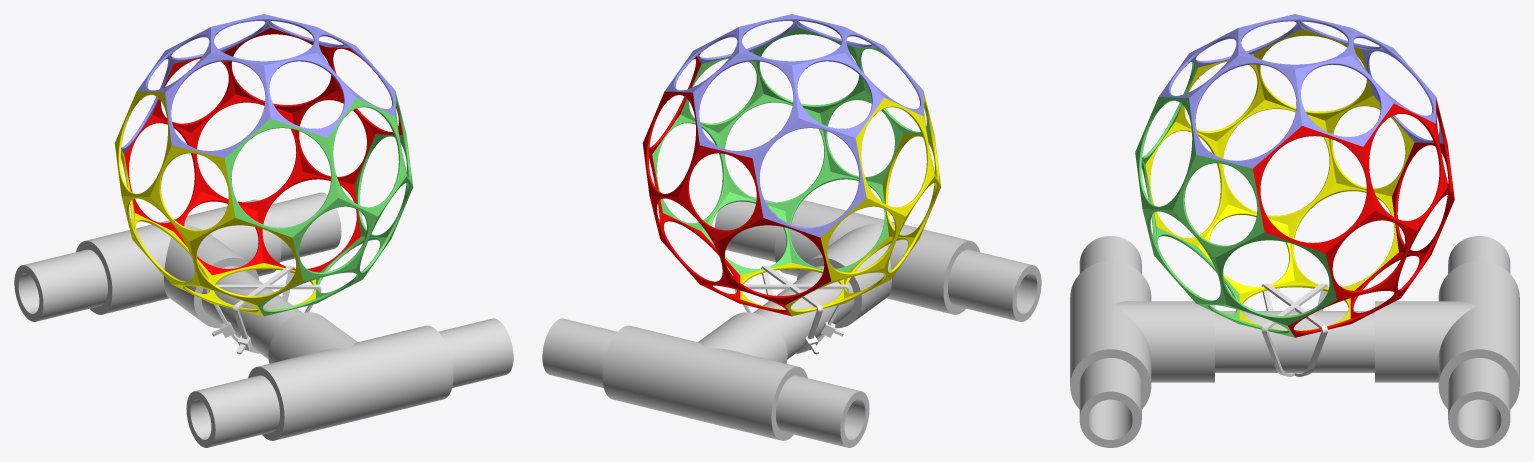
The model's file is basket_star.glb.
3 renders of one model, left to right at view 1: azimuth 30°, elevation 25°; view 2: azimuth 150°, elevation 25°; view 3: azimuth 270°, elevation 25°, orthographic. The views are drawn at different scales.
Parts seen in each view (by area): view 1: 4in O-Ball, 1/2_inch_PVC_T (×2), 1/2_in_PVC_Pipe (×5), mesh17_mesh (×2); view 2: 4in O-Ball, 1/2_inch_PVC_T (×2), 1/2_in_PVC_Pipe (×5), mesh17_mesh (×2); view 3: 4in O-Ball, 1/2_inch_PVC_T (×2), 1/2_in_PVC_Pipe (×5), mesh17_mesh (×2).
Part boxes in pixels (x1=…): 4in O-Ball: x1=114, y1=14, x2=413, y2=316; 1/2_inch_PVC_T (×2): x1=76, y1=199, x2=453, y2=440; 1/2_in_PVC_Pipe (×5): x1=14, y1=192, x2=513, y2=447; mesh17_mesh (×2): x1=206, y1=265, x2=321, y2=353; 4in O-Ball: x1=642, y1=14, x2=941, y2=316; 1/2_inch_PVC_T (×2): x1=602, y1=200, x2=979, y2=440; 1/2_in_PVC_Pipe (×5): x1=542, y1=196, x2=1041, y2=447; mesh17_mesh (×2): x1=734, y1=265, x2=849, y2=353; 4in O-Ball: x1=1135, y1=14, x2=1454, y2=337; 1/2_inch_PVC_T (×2): x1=1070, y1=261, x2=1519, y2=409; 1/2_in_PVC_Pipe (×5): x1=1079, y1=236, x2=1510, y2=447; mesh17_mesh (×2): x1=1261, y1=283, x2=1328, y2=376.
Bounding box in the file's own units: 0.1263 × 0.1275 × 0.1542.
